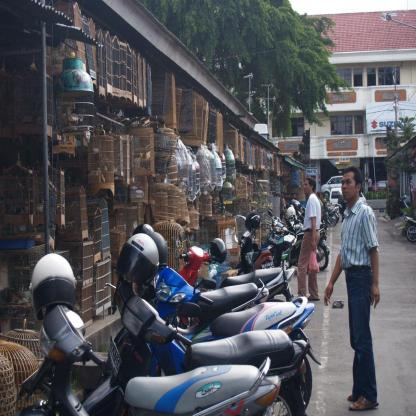Helmet: (31, 252, 78, 341), (118, 232, 159, 291), (144, 225, 171, 268)
